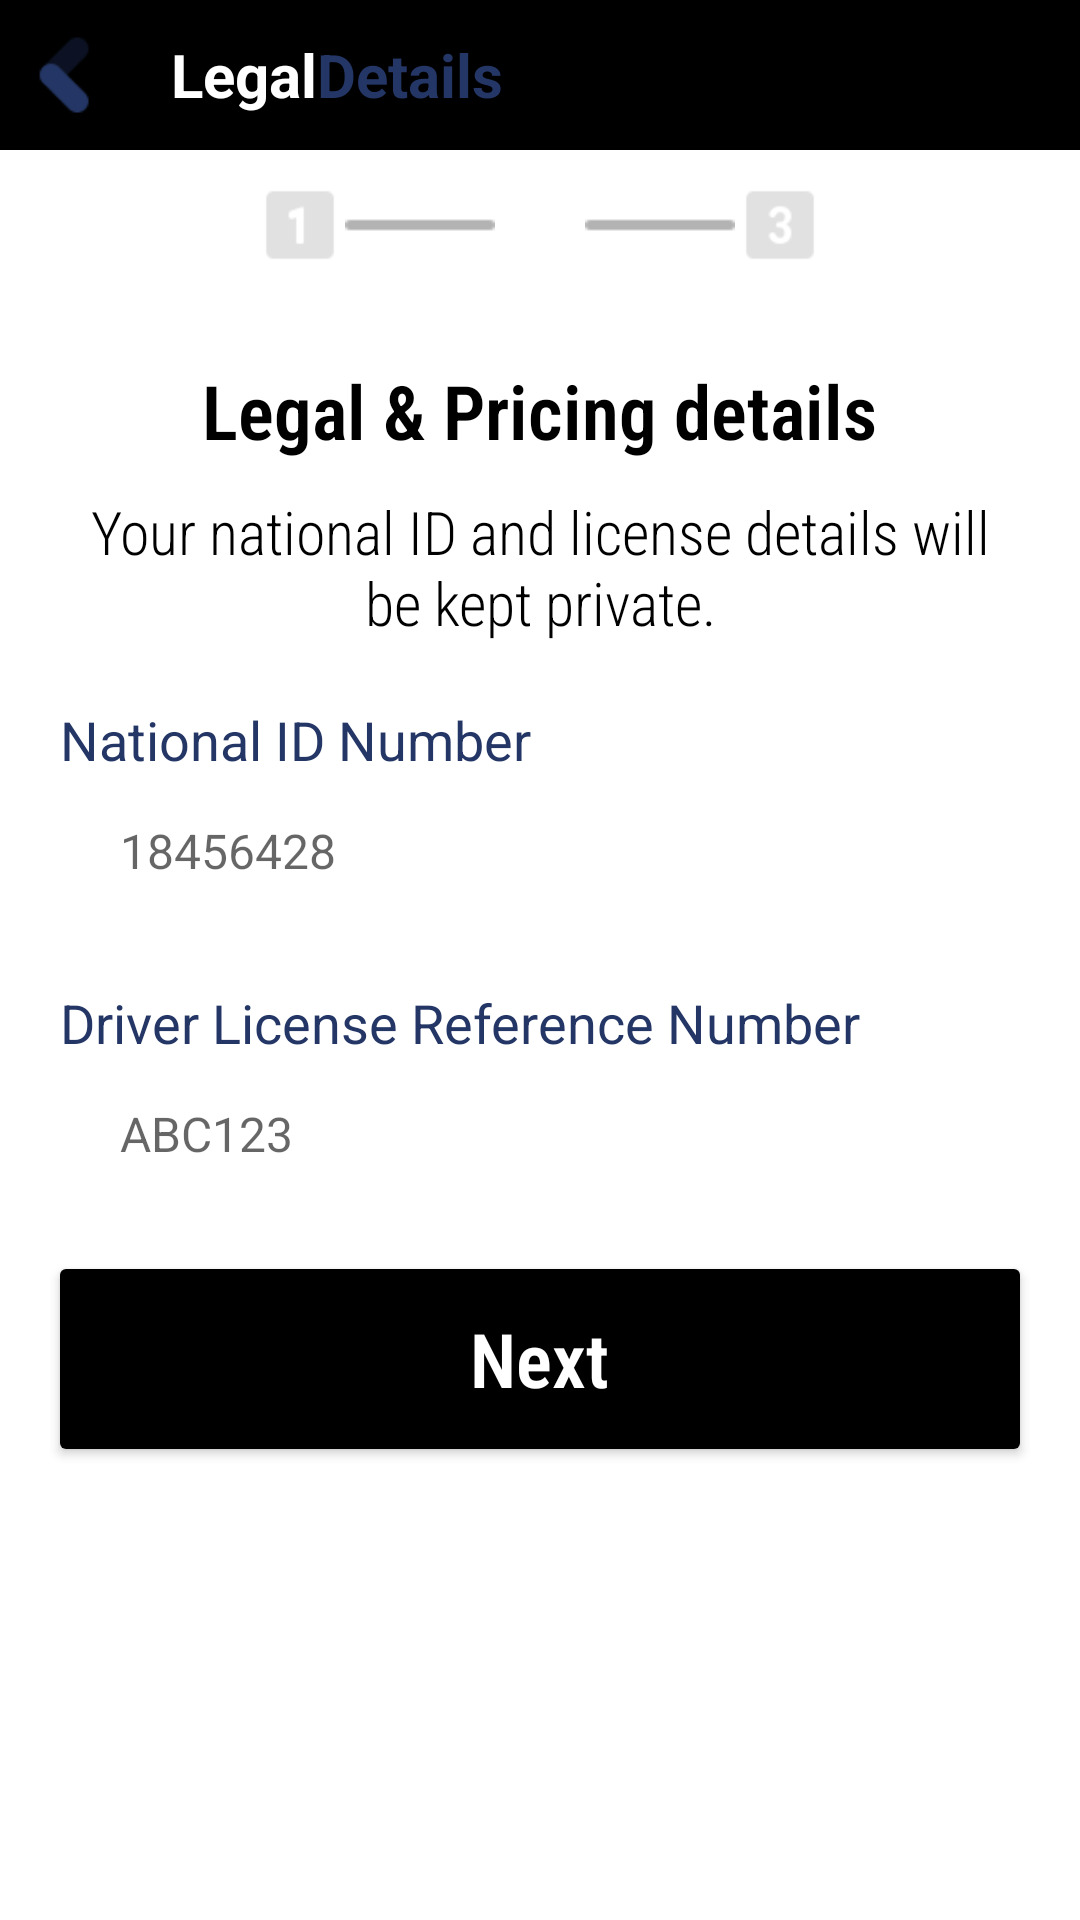

Where to tap for icons on this 1080x1920 app screen, as (x,y):
back: (64,75)
